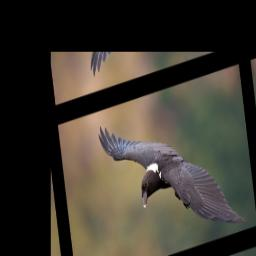Crow: (97, 81, 248, 256)
